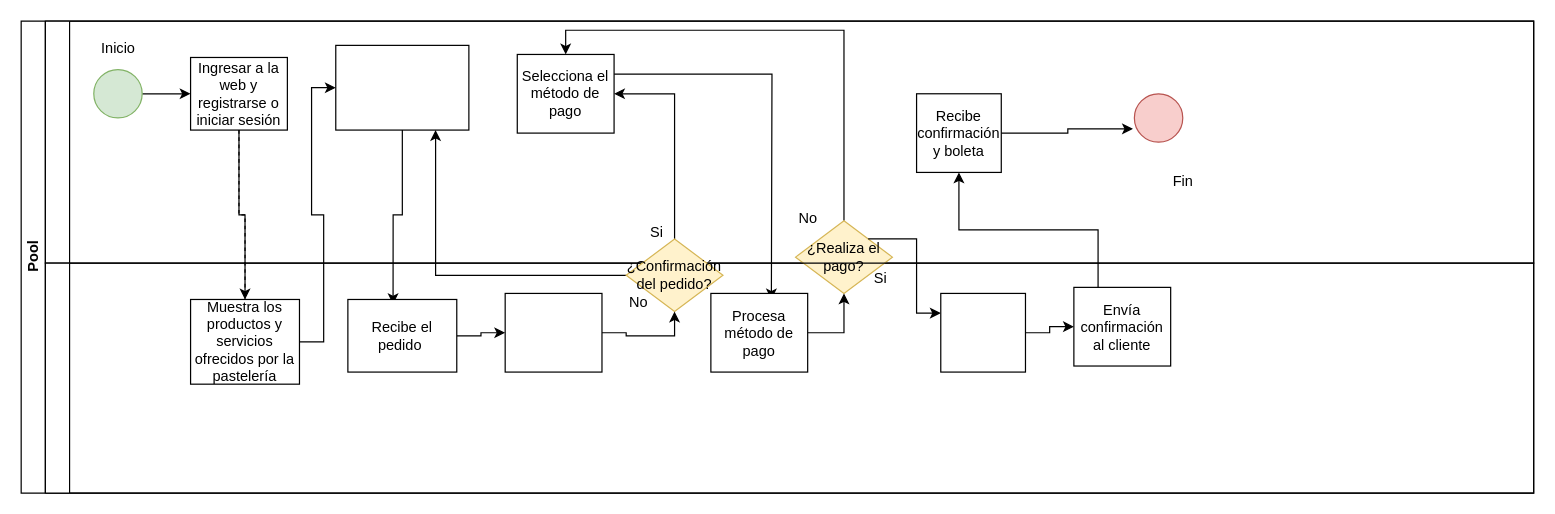
The diagram is 1555 pixels wide and 514 high, and some of its shapes have lost their labels. The box of each missing label's shape, as (x1, y1, x2, y2) in pixels:
Aplicativo web: (44, 262, 1534, 493)
Cliente: (44, 20, 1534, 263)
Emite boleta electrónica: (940, 292, 1025, 372)
Explora y selecciona los productos a adquirir o en otro caso los personaliza: (335, 44, 469, 130)
Genera resumen del pedido: (504, 292, 602, 372)
